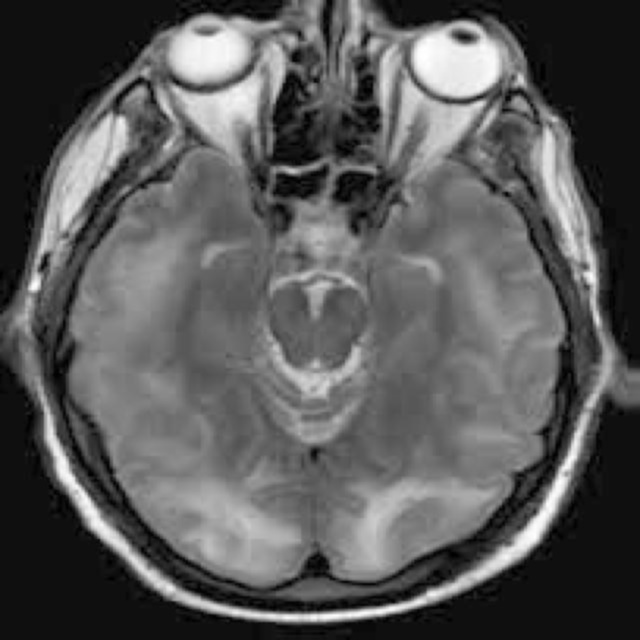glioma tumor: (141, 68, 505, 550)
